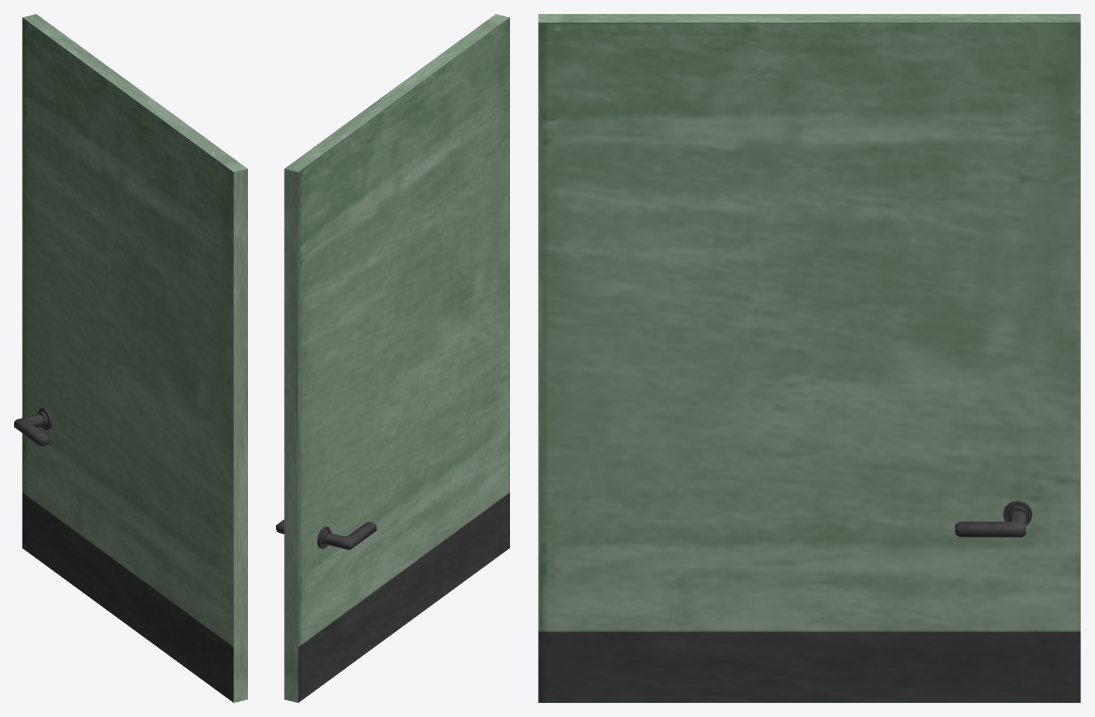
Rendered from door3.FBX.
3 renders of one model, left to right at view 1: azimuth 30°, elevation 25°; view 2: azimuth 150°, elevation 25°; view 3: azimuth 270°, elevation 25°, orthographic. The views are drawn at different scales.
Parts seen in each view (by area): view 1: door3; view 2: door3; view 3: door3.
Boxes of the visible parts, x1,y1,x2,y2 form: door3: (14,14,247,702); door3: (276,14,509,702); door3: (538,14,1080,702).
Size of the model in its own units: 27 by 130 by 180.
